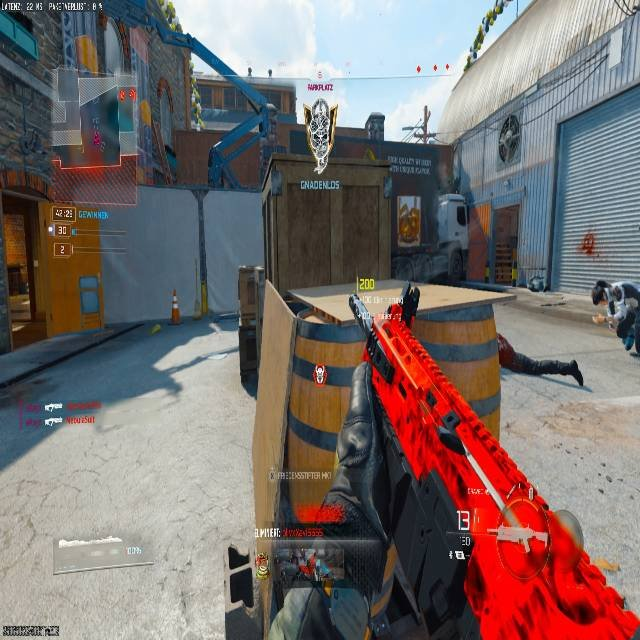head: (592, 279, 609, 305)
player: (592, 278, 639, 362), (151, 141, 179, 185)
